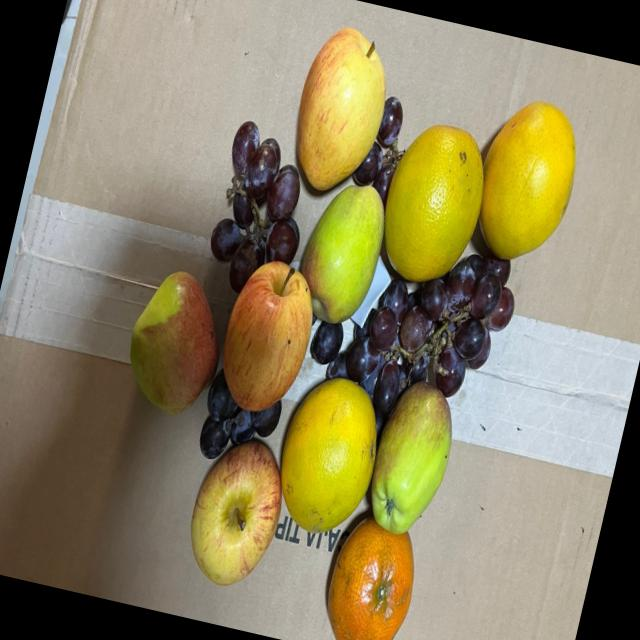hoja: (342, 258, 394, 331)
